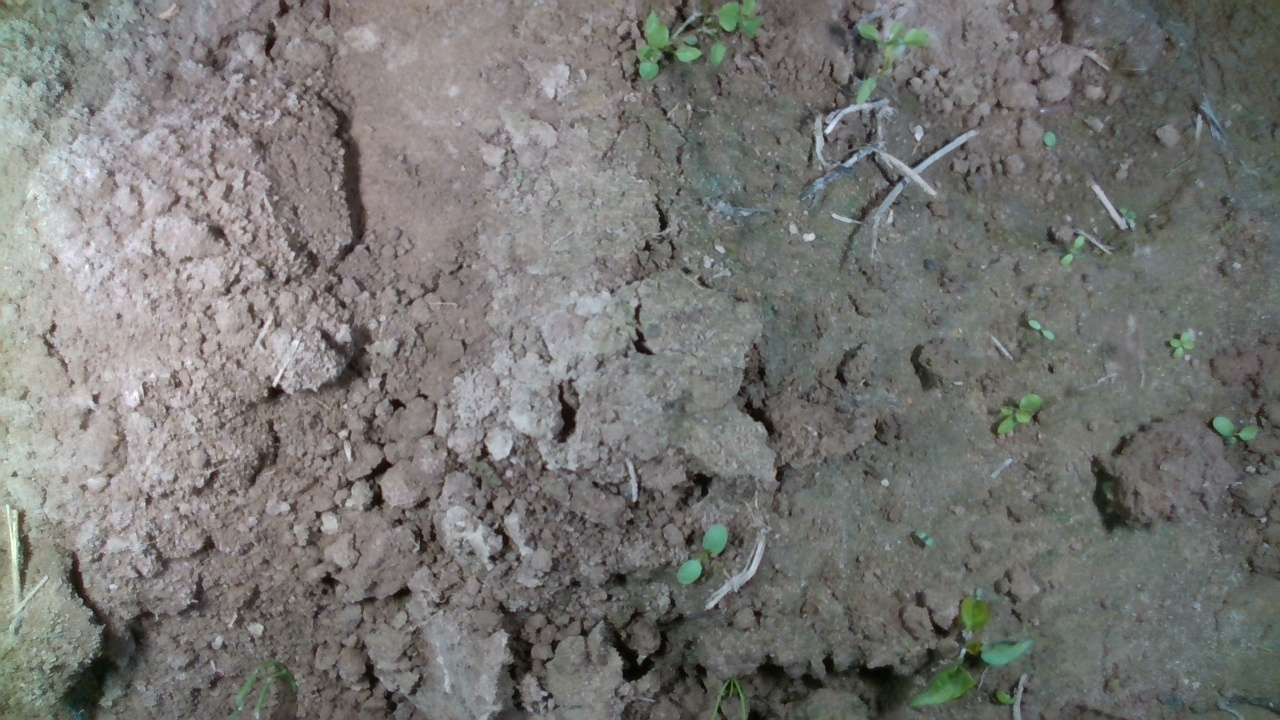weed: (907, 592, 1038, 710), (673, 520, 730, 586), (993, 393, 1043, 435), (1210, 413, 1261, 442), (1169, 331, 1197, 361), (1061, 233, 1085, 267), (1027, 318, 1056, 342), (1119, 206, 1138, 228)
